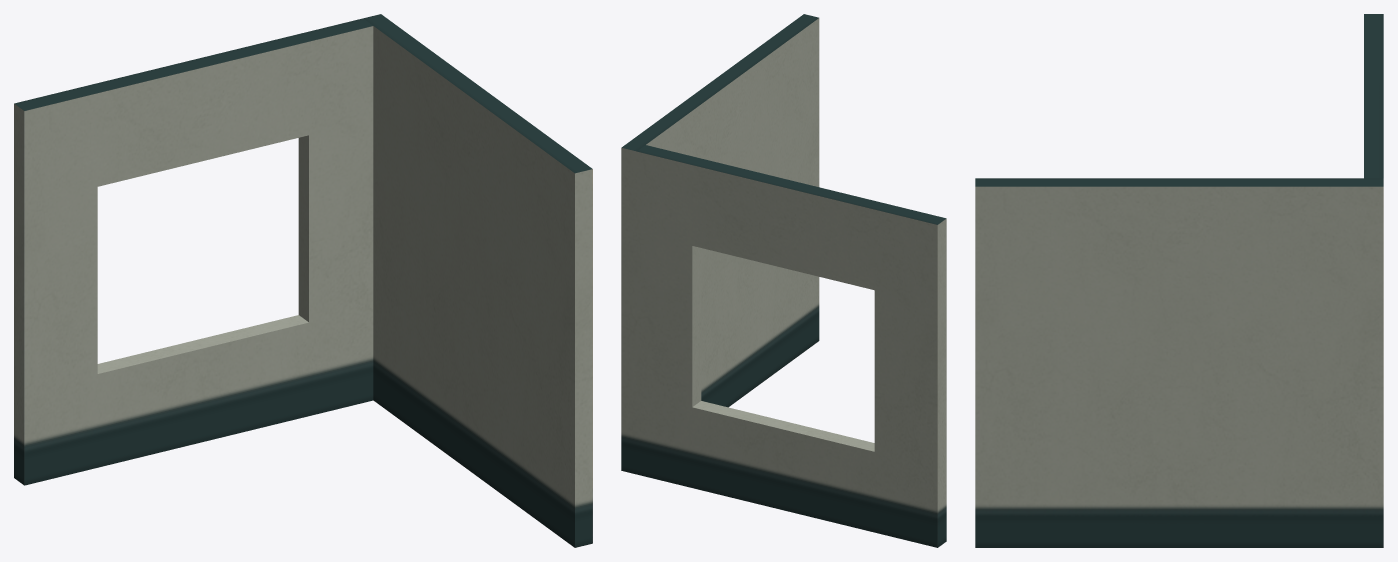
File: Wall_5_Corner_C.fbx
3 renders of one model, left to right at view 1: azimuth 30°, elevation 25°; view 2: azimuth 150°, elevation 25°; view 3: azimuth 270°, elevation 25°, orthographic. The views are drawn at different scales.
Parts seen in each view (by area): view 1: polySurface33; view 2: polySurface33; view 3: polySurface33.
Boxes of the visible parts, box(x1,y1,x2,y2) form: polySurface33: box(14, 14, 592, 547); polySurface33: box(621, 14, 946, 547); polySurface33: box(975, 14, 1383, 547).
Bounding box in the file's own units: 4.1 × 4 × 4.1.
